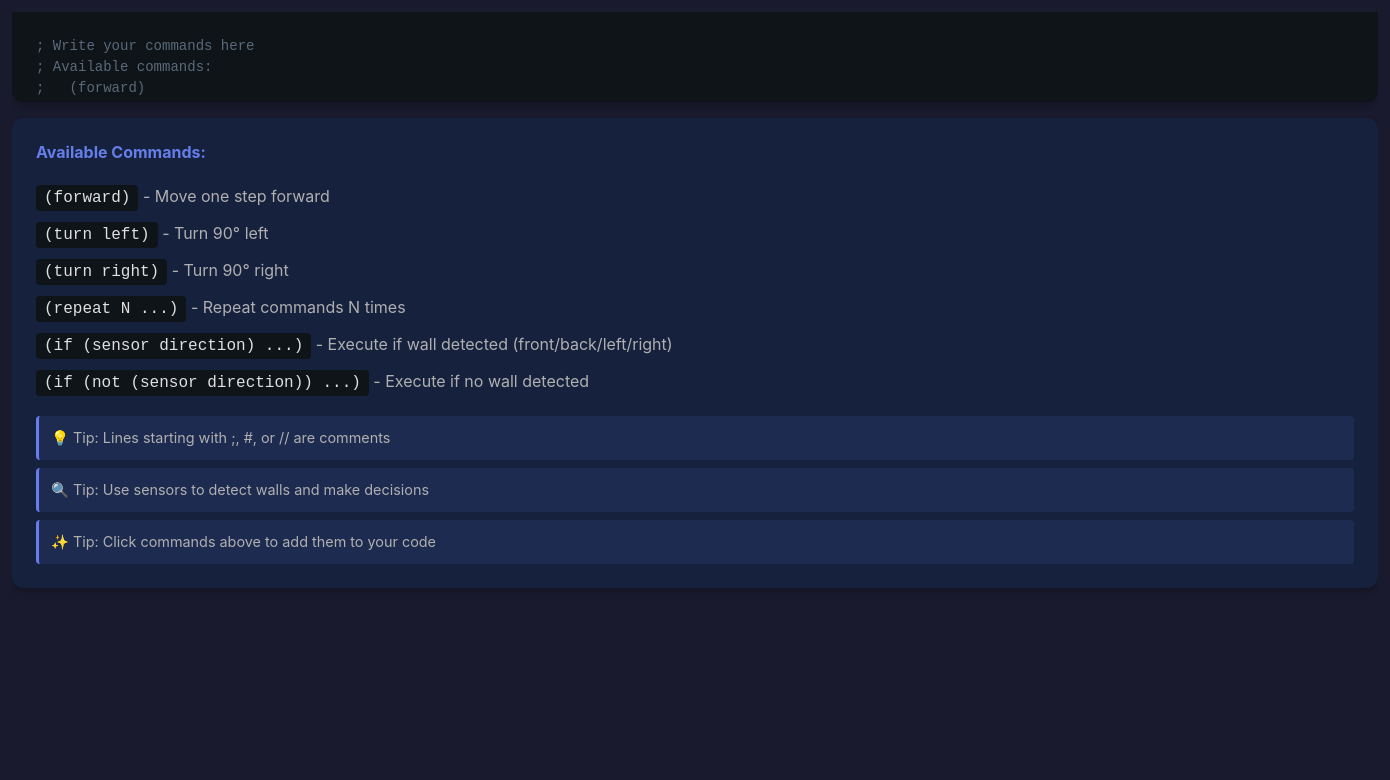
Test: CodeEditor › should dismiss multiple tips independently
Expected: the text "🔍 Tip: Use sensors to detect walls and make decisions" is shown, [36,468,1354,512]
Expected: the text "✨ Tip: Click commands above to add them to your code" is shown, [36,520,1354,564]
Dismiss first tip
Click the text "💡 Tip: Lines starting with ;, #, or // are comments" at {"x": 695, "y": 438}, box [36,416,1354,460]
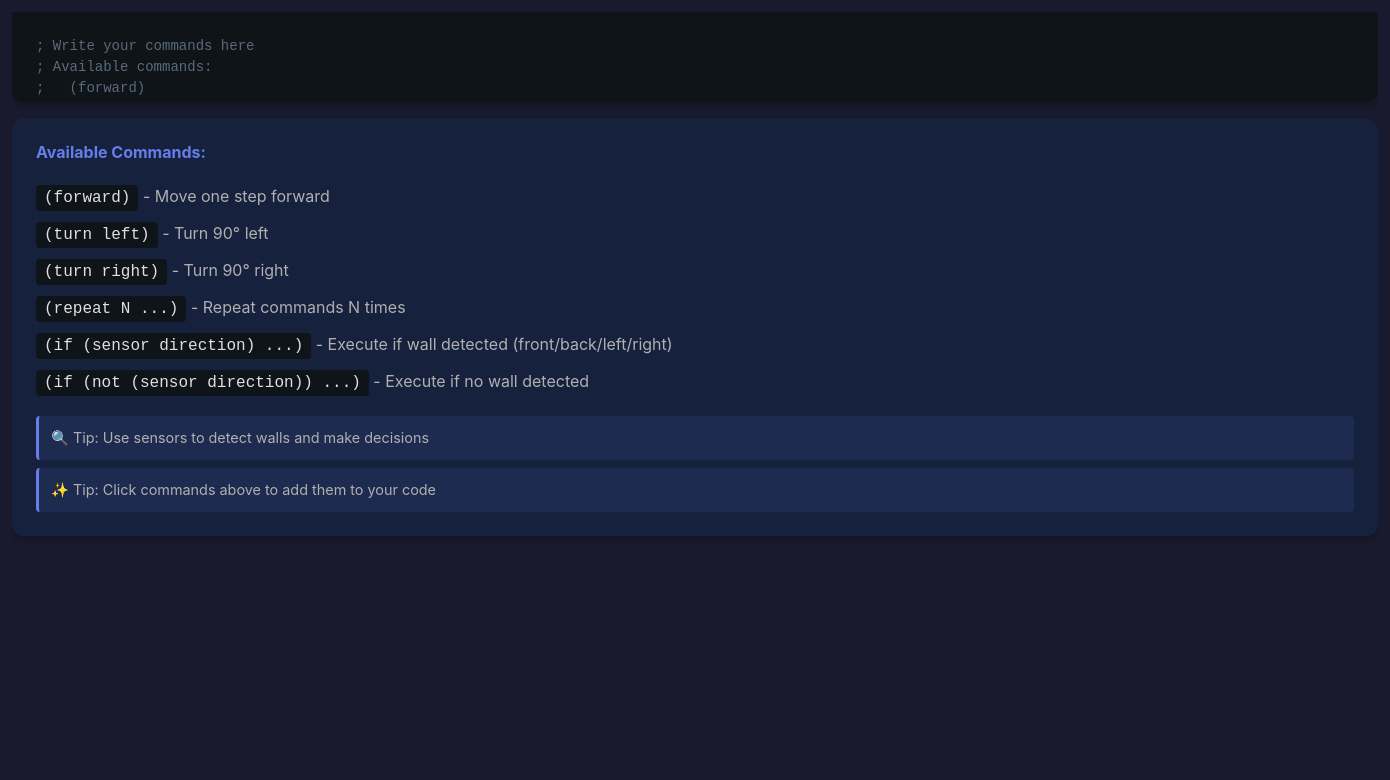
Expected: the text "✨ Tip: Click commands above to add them to your code" is shown, [36,468,1354,512]
Dismiss second tip
Click the text "🔍 Tip: Use sensors to detect walls and make decisions" at {"x": 695, "y": 438}, box [36,416,1354,460]
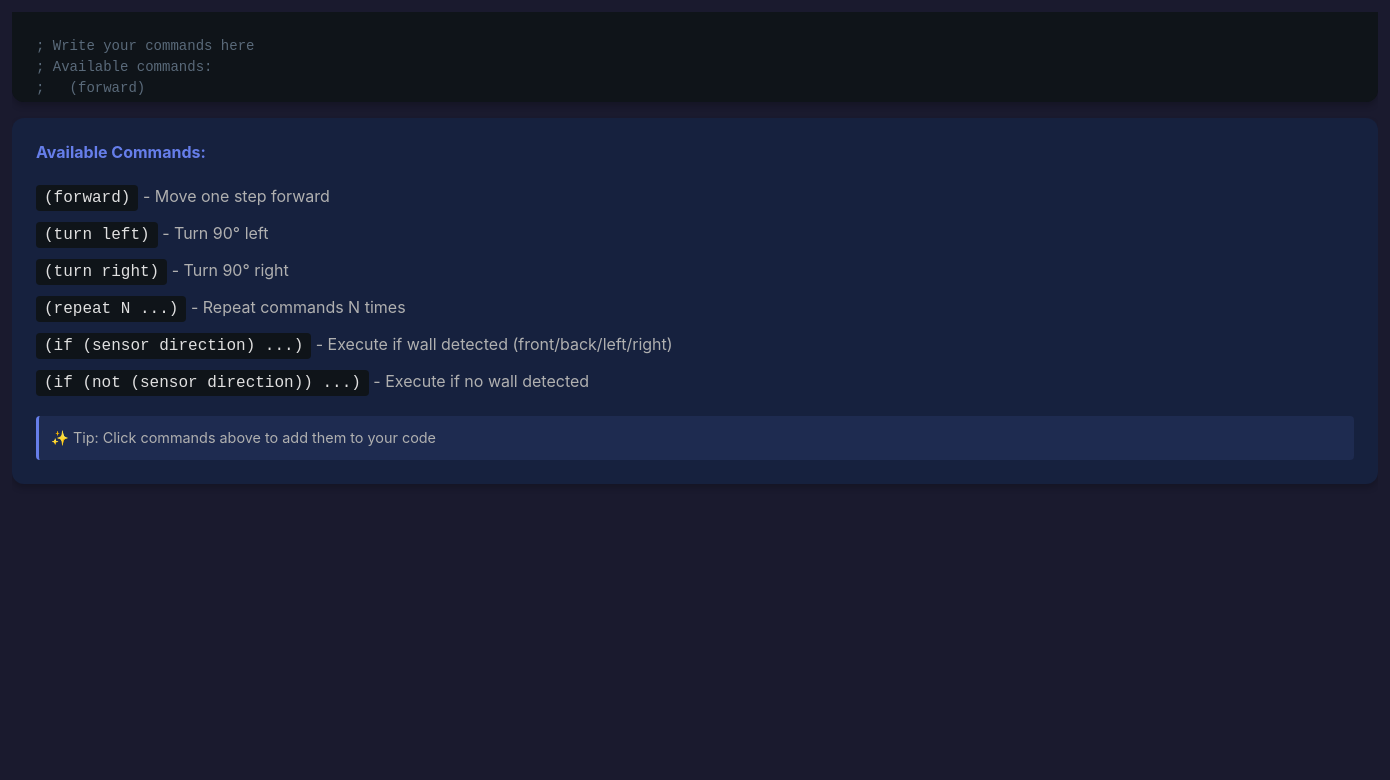
Result: the text "Use sensors to detect walls" is gone
